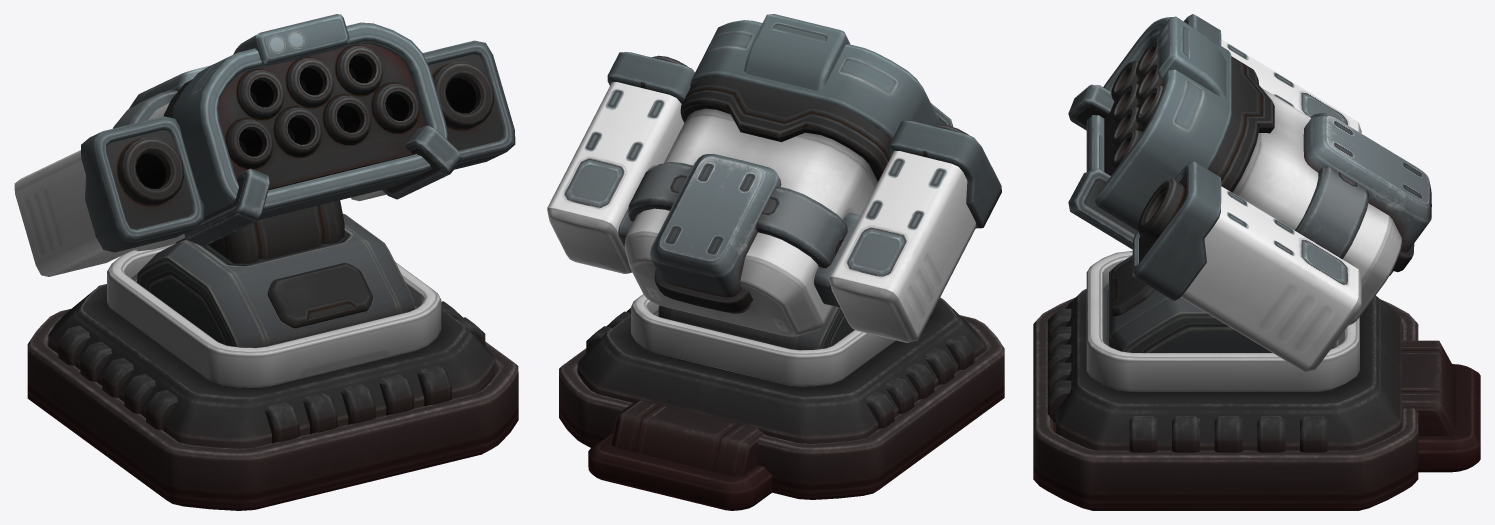
Rendered from lvl3.fbx.
3 renders of one model, left to right at view 1: azimuth 30°, elevation 25°; view 2: azimuth 150°, elevation 25°; view 3: azimuth 270°, elevation 25°, orthographic. The views are drawn at different scales.
Parts seen in each view (by area): view 1: lvl3_launcher_bot, lvl3_launcher_top, lvl3_launcher_mid, lvl3_launcher_side; view 2: lvl3_launcher_top, lvl3_launcher_bot, lvl3_launcher_side, lvl3_launcher_mid; view 3: lvl3_launcher_bot, lvl3_launcher_top, lvl3_launcher_side, lvl3_launcher_mid.
Boxes of the visible parts, <box> form: lvl3_launcher_bot: <box>27,284,518,510</box>; lvl3_launcher_top: <box>113,14,461,251</box>; lvl3_launcher_mid: <box>107,200,441,388</box>; lvl3_launcher_side: <box>14,40,515,276</box>; lvl3_launcher_top: <box>618,14,953,336</box>; lvl3_launcher_bot: <box>559,297,1004,510</box>; lvl3_launcher_side: <box>547,52,1001,342</box>; lvl3_launcher_mid: <box>631,294,934,386</box>; lvl3_launcher_bot: <box>1033,288,1480,510</box>; lvl3_launcher_top: <box>1068,16,1431,325</box>; lvl3_launcher_side: <box>1132,14,1361,371</box>; lvl3_launcher_mid: <box>1086,251,1359,392</box>.
Bounding box in the file's own units: 264 × 258 × 265.
